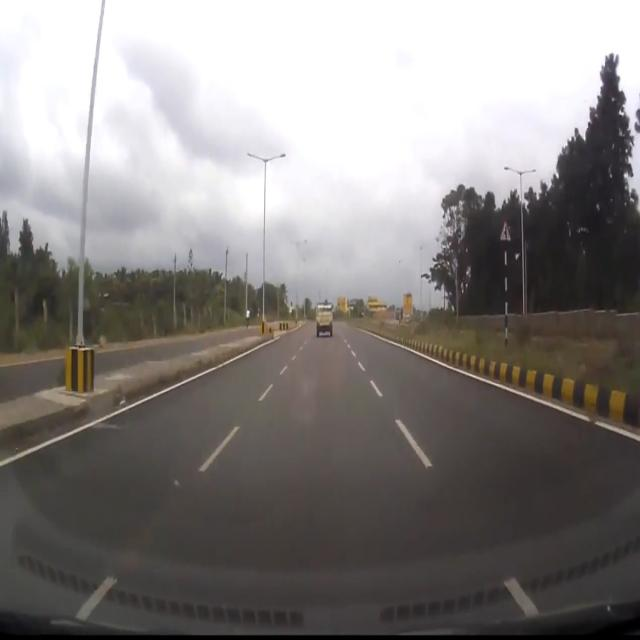bien_cam: (497, 214, 512, 245)
